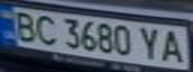0: (112, 23, 136, 57)
3: (57, 16, 81, 50)
6: (78, 19, 100, 53)
8: (93, 20, 115, 55)
A: (157, 27, 187, 64)
B: (9, 9, 42, 43)
C: (30, 12, 60, 46)
Y: (136, 25, 163, 61)
